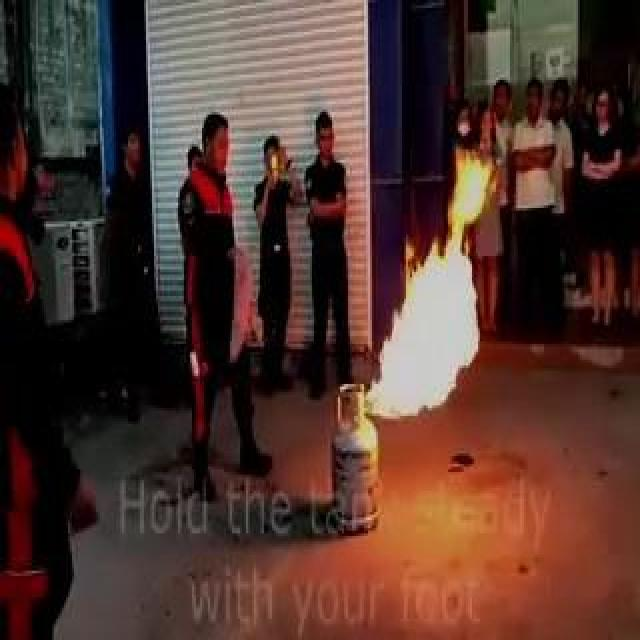Fire: (363, 81, 511, 423)
